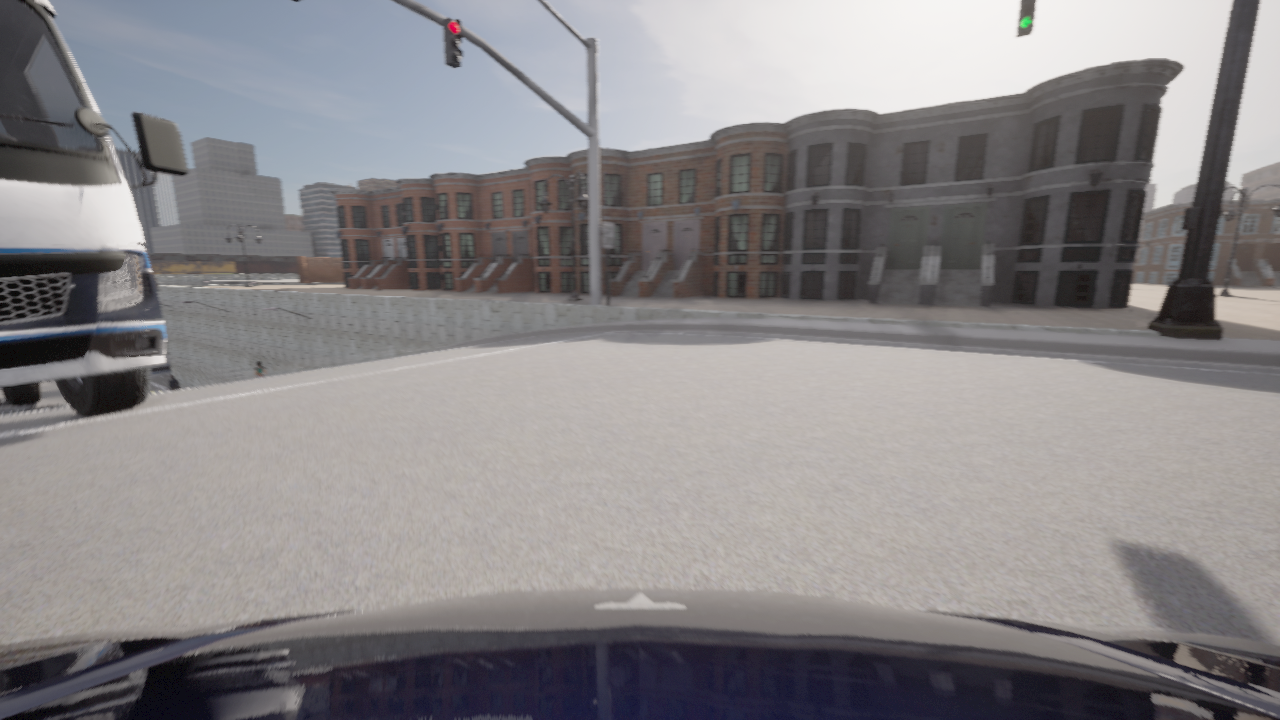cyclist: (0, 588, 1279, 719), (149, 342, 171, 377), (0, 402, 36, 415), (22, 405, 63, 412)
pedestrian: (168, 375, 179, 390), (254, 362, 265, 377)
